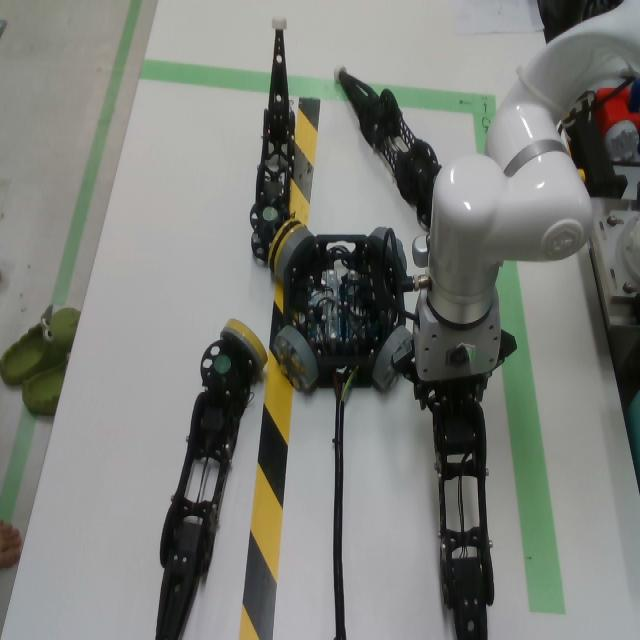body: (284, 235, 406, 388)
body_connector: (273, 325, 319, 391), (372, 325, 411, 392), (275, 227, 315, 280), (370, 227, 408, 275)
gripper: (392, 287, 518, 411)
leg: (155, 319, 268, 640), (334, 63, 442, 232), (428, 387, 495, 640), (249, 13, 302, 275)
leg_connector: (220, 319, 268, 375), (268, 219, 304, 275)
leg_marker: (215, 355, 230, 372), (263, 207, 278, 221)
